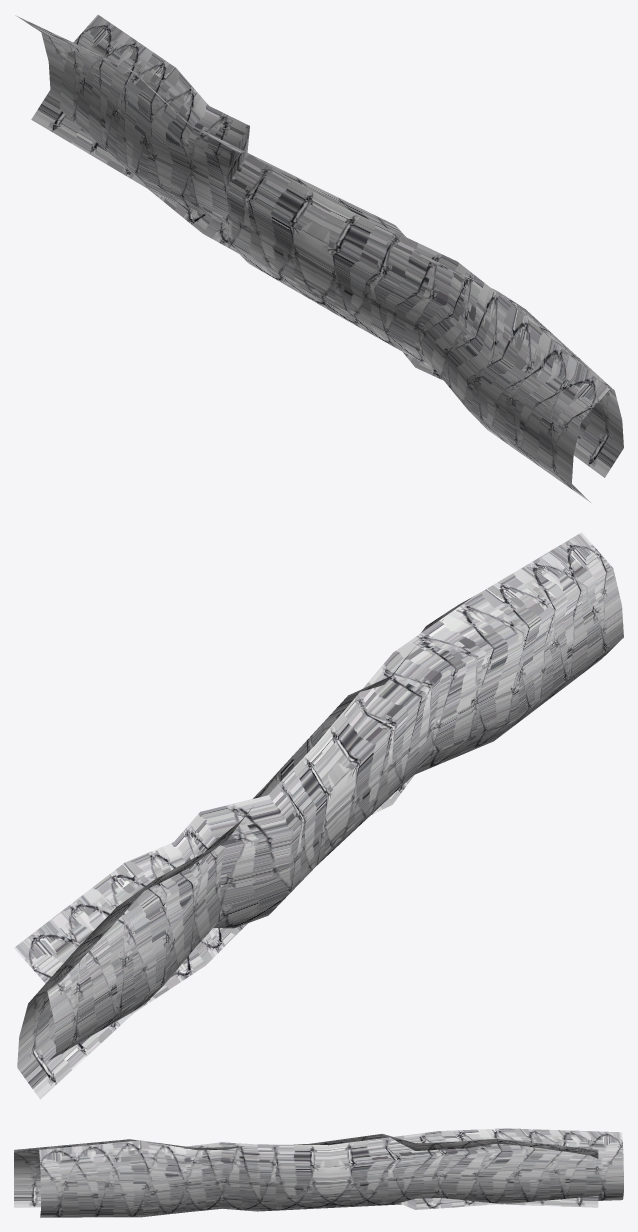
Rendered from BarbedWire.obj.
The picture shows the model from 3 angles, top to bottom: view 1: azimuth 30°, elevation 25°; view 2: azimuth 150°, elevation 25°; view 3: azimuth 270°, elevation 25°; orthographic projection. The views are drawn at different scales.
Visible parts, largest first — view 1: BarbedWire; view 2: BarbedWire; view 3: BarbedWire.
Part boxes in pixels (box(x1,y1,x2,y2)): BarbedWire: box(15, 14, 623, 502); BarbedWire: box(14, 532, 623, 1099); BarbedWire: box(14, 1128, 623, 1217).
Size of the model in its own units: 10.98 by 13.19 by 101.
1 material, 1 textured.
